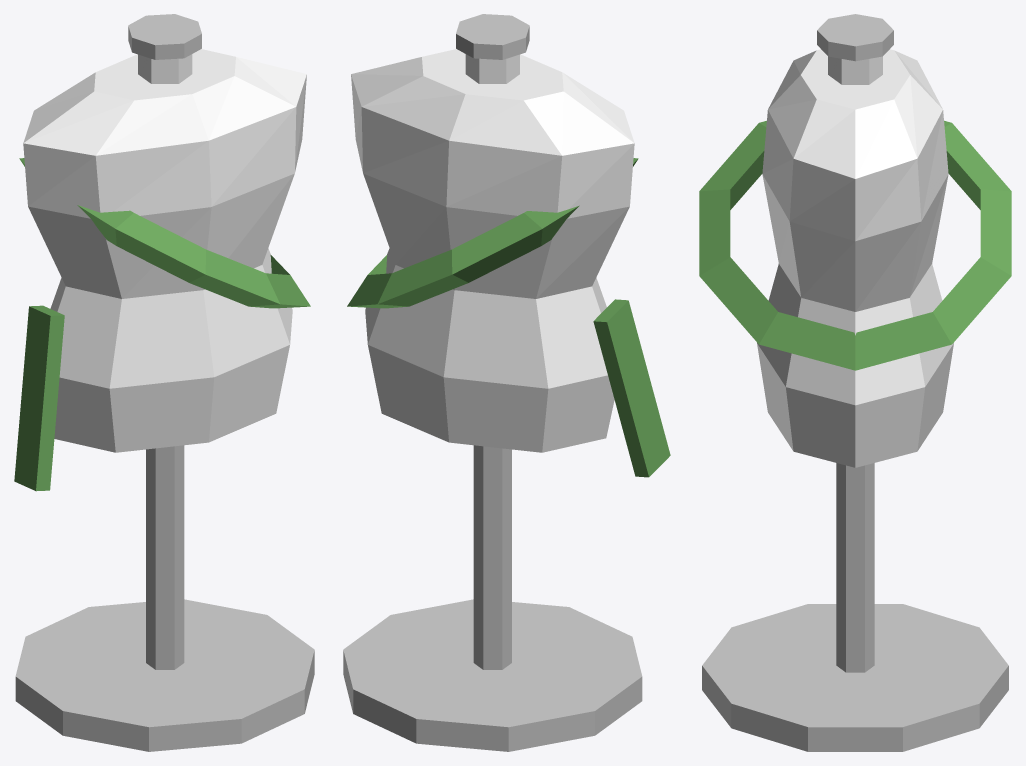
File: vfem2_mannequin_stand.obj
3 views of the same model, side by side, from view 1: azimuth 30°, elevation 25°; view 2: azimuth 150°, elevation 25°; view 3: azimuth 270°, elevation 25° (orthographic).
Visible parts, largest first — view 1: vfem2_mannequin_stand; view 2: vfem2_mannequin_stand; view 3: vfem2_mannequin_stand.
Boxes of the visible parts, left/top/right/bottom form: vfem2_mannequin_stand: left=14, top=14, right=314, bottom=751; vfem2_mannequin_stand: left=343, top=14, right=670, bottom=751; vfem2_mannequin_stand: left=699, top=14, right=1011, bottom=751.
Bounding box in the file's own units: 0.6248 × 1.33 × 0.5706.
